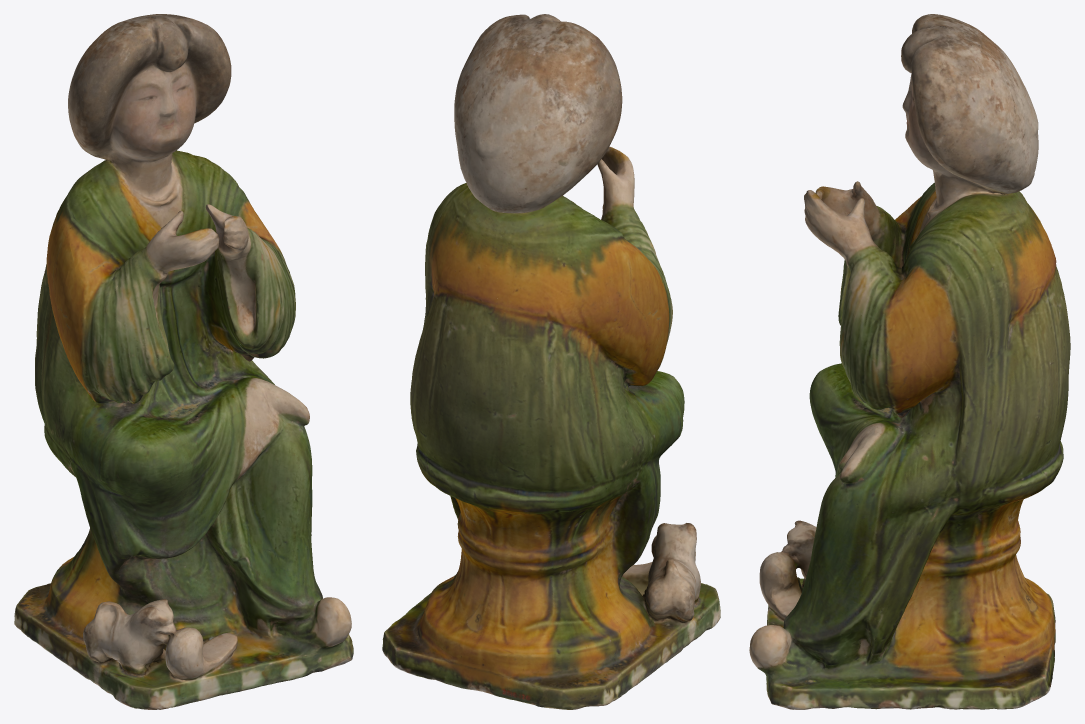
File: preview.glb
3 views of the same model, side by side, from view 1: azimuth 30°, elevation 25°; view 2: azimuth 150°, elevation 25°; view 3: azimuth 270°, elevation 25° (orthographic). The views are drawn at different scales.
Visible parts, largest first — view 1: ADVIMG_2010_120_FigureofaSeatedCourtLady_ADVIMG_2010_120_Fig; view 2: ADVIMG_2010_120_FigureofaSeatedCourtLady_ADVIMG_2010_120_Fig; view 3: ADVIMG_2010_120_FigureofaSeatedCourtLady_ADVIMG_2010_120_Fig.
Boxes of the visible parts, x1,y1,x2,y2 form: ADVIMG_2010_120_FigureofaSeatedCourtLady_ADVIMG_2010_120_Fig: (14, 14, 353, 709); ADVIMG_2010_120_FigureofaSeatedCourtLady_ADVIMG_2010_120_Fig: (382, 14, 720, 709); ADVIMG_2010_120_FigureofaSeatedCourtLady_ADVIMG_2010_120_Fig: (749, 14, 1070, 709).
Size of the model in its own units: 0.1474 by 0.3745 by 0.1743.
Materials: 1 (1 with a texture image).
